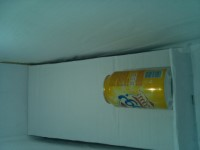kaleng: (103, 67, 174, 108)
